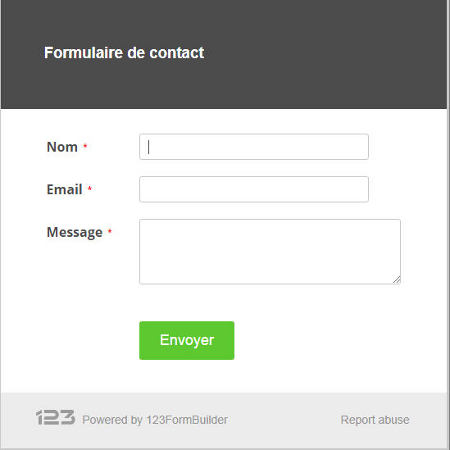_form_: (1, 1, 416, 416)
button: (137, 319, 238, 362)
field: (136, 217, 403, 286), (136, 174, 371, 204), (137, 132, 371, 161)
field_with_label: (46, 215, 407, 289), (45, 171, 371, 205), (45, 130, 374, 162)
